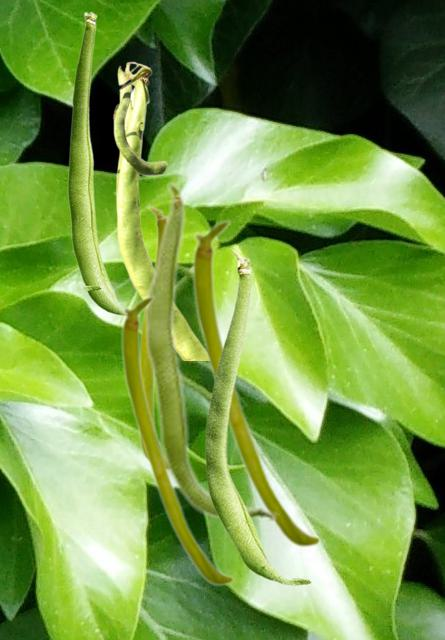french_bean: (142, 180, 278, 523), (191, 218, 321, 548), (205, 248, 311, 585), (120, 294, 234, 586), (112, 61, 205, 359), (67, 11, 123, 316), (136, 204, 165, 459)
